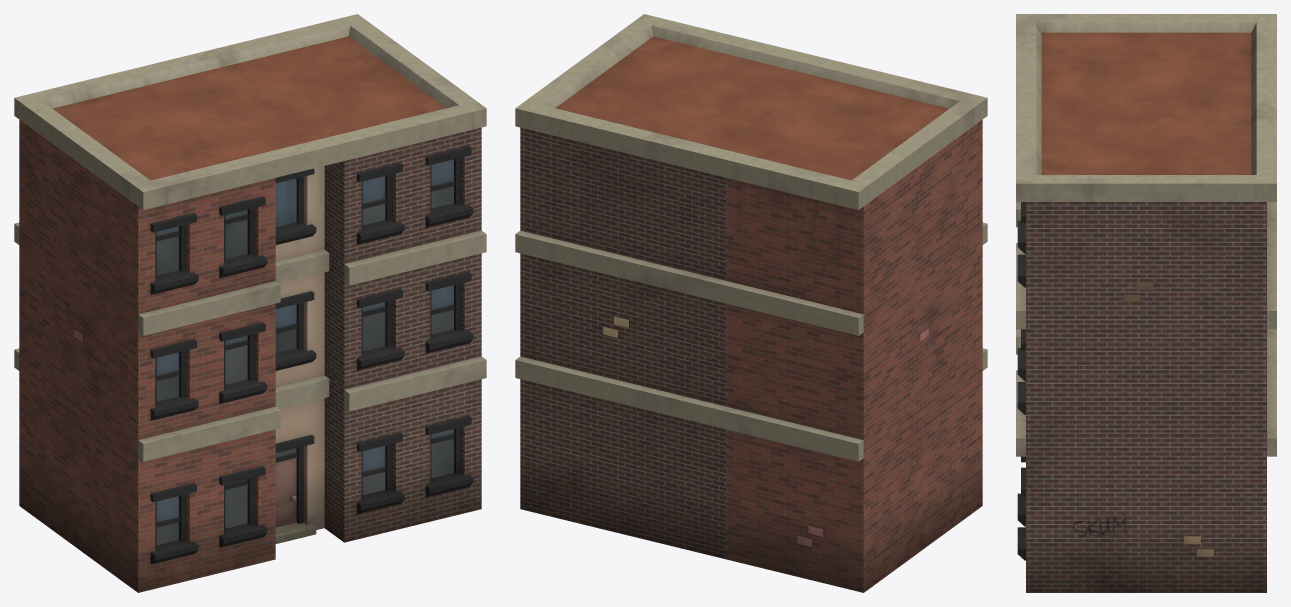
File: building_F.glb
3 views of the same model, side by side, from view 1: azimuth 30°, elevation 25°; view 2: azimuth 150°, elevation 25°; view 3: azimuth 270°, elevation 25° (orthographic).
Visible parts, largest first — view 1: building_F_withoutBase; view 2: building_F_withoutBase; view 3: building_F_withoutBase.
Part boxes in pixels (x1=…): building_F_withoutBase: x1=14, y1=14, x2=486, y2=592; building_F_withoutBase: x1=515, y1=14, x2=987, y2=592; building_F_withoutBase: x1=1016, y1=14, x2=1276, y2=592.
Bounding box in the file's own units: 2.01 × 2.25 × 1.3.
Materials: 2 (2 with a texture image).
